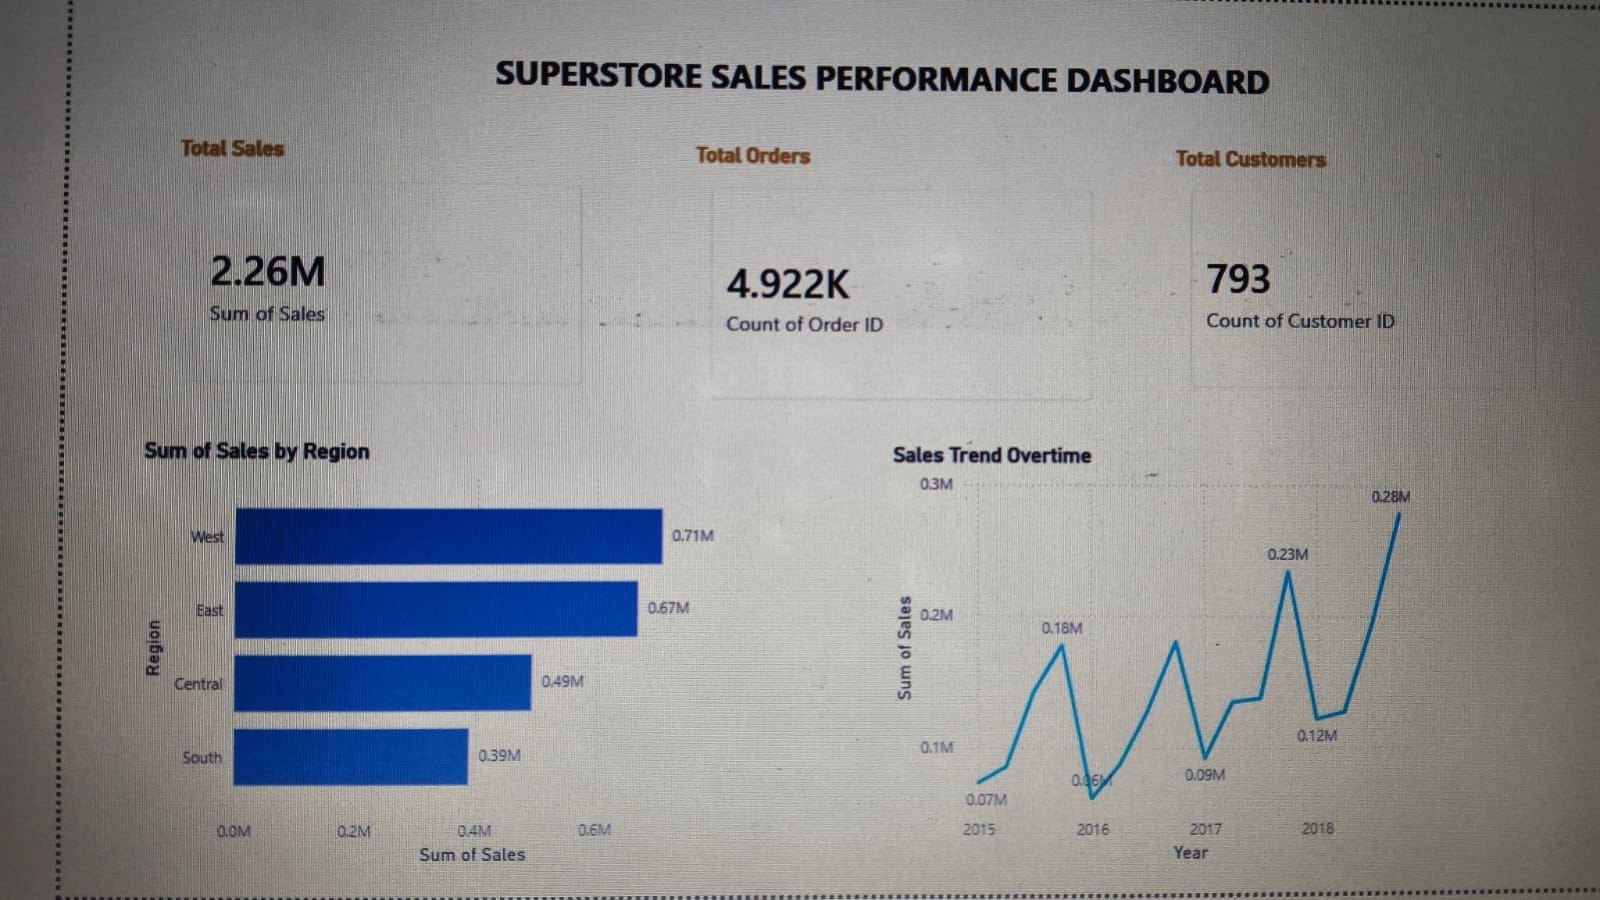

The page's visual inventory and layout, read from the dashboard file:
{"tool":"powerbi","page":{"name":"Page 1","canvas":[1280,720],"ordinal":0},"visuals":[{"type":"cardVisual","title":"Total Sales","fields":{"Data":["Sum(train.Sales)"]},"box":[82.6,118.2,338.4,213.7],"z":0},{"type":"cardVisual","title":"Total Orders","fields":{"Data":["Count(train.Order ID)"]},"box":[490.6,118.2,343.3,225.1],"z":1000},{"type":"cardVisual","title":"Total Customers","fields":{"Data":["Count(train.Customer ID)"]},"box":[877.6,118.2,319,213.7],"z":2000},{"type":"lineChart","title":" Sales Trend Overtime","fields":{"Category":["train.Order Date.Variation.Date Hierarchy.Year","train.Order Date.Variation.Date Hierarchy.Quarter","train.Order Date.Variation.Date Hierarchy.Month","train.Order Date.Variation.Date Hierarchy.Day"],"Y":["Sum(train.Sales)"]},"box":[649.3,359.5,432.3,340],"z":3000},{"type":"clusteredBarChart","fields":{"Category":["train.Region"],"Y":["Sum(train.Sales)"]},"box":[58.6,359.1,470.6,340.2],"z":4000},{"type":"textbox","box":[1073.5,377.3,150.6,322.2],"z":5000},{"type":"textbox","box":[100.4,42.1,1096.2,64.8],"z":6000}]}

Visuals, with their boxes in screenshot pixels (x1, y1, x2, y2), scaled from the page's 1280x720 canvas onto the 1600x900 screenshot:
"Total Sales" cardVisual: region(103, 148, 526, 415)
"Total Orders" cardVisual: region(613, 148, 1042, 429)
"Total Customers" cardVisual: region(1097, 148, 1496, 415)
" Sales Trend Overtime" lineChart: region(812, 449, 1352, 874)
clusteredBarChart - train.Region x Sum(train.Sales): region(73, 449, 662, 874)
textbox: region(1342, 472, 1530, 874)
textbox: region(126, 53, 1496, 134)
